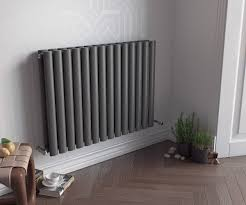Radiator: (37, 37, 164, 157)
